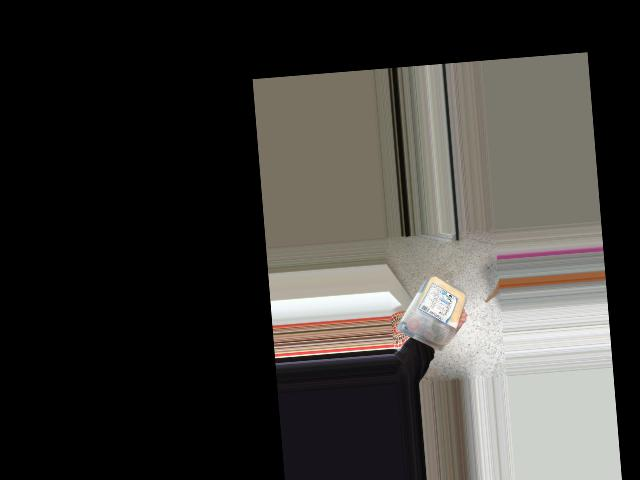cheese: (420, 272, 462, 340)
